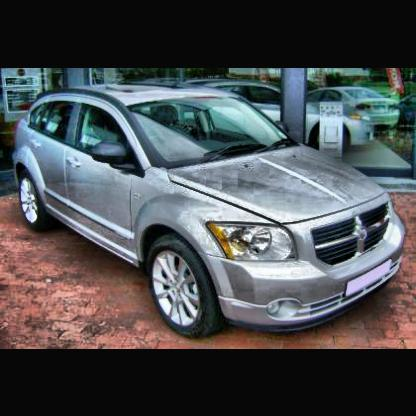Dodge Caliber Wagon 2012: (21, 89, 406, 343)
